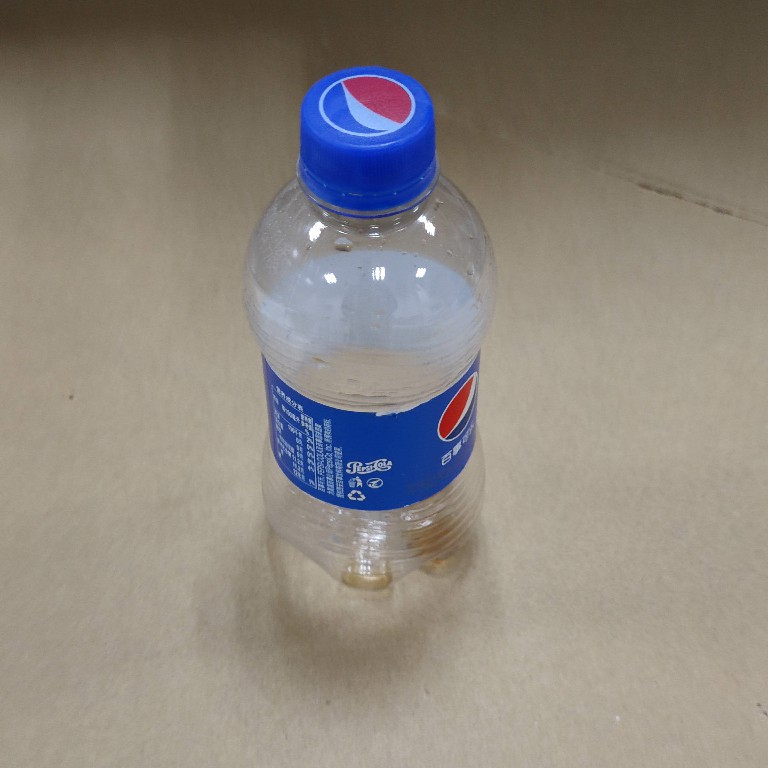bottle: (234, 62, 501, 600)
